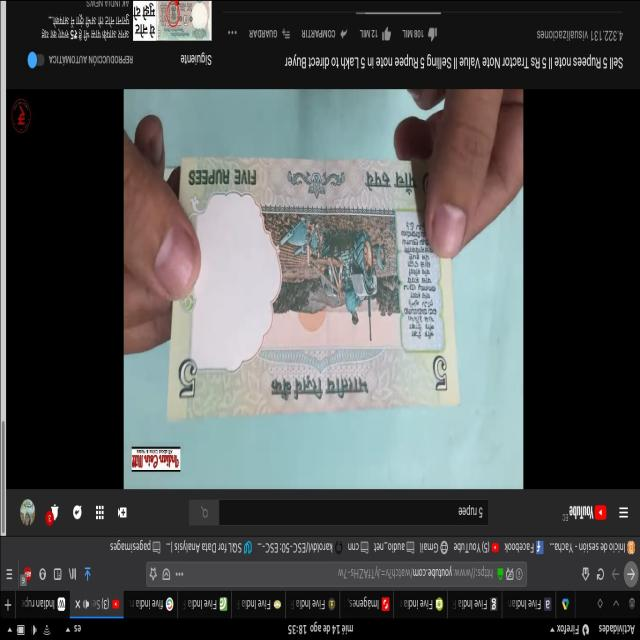5IndianRupees: (171, 158, 459, 409)
